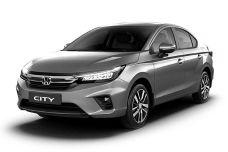Car hood: (29, 50, 140, 76)
Fender - -F-L-: (120, 50, 158, 109)
Fender - -R-L-: (200, 48, 213, 80)
Fender - -R-R-: (43, 56, 78, 79)
Front bumper: (13, 80, 133, 121)
Headlight - -L-: (73, 63, 129, 87)
Headlight - -R-: (15, 58, 33, 80)
Passenger-s door - -F-L-: (153, 23, 186, 99)
Passenger-s door - -R-L-: (180, 26, 207, 91)
Rear bumper: (209, 69, 217, 88)
Rear light - -L-: (206, 46, 216, 59)
Side bumper - -L-: (150, 83, 204, 106)
Side mirror - -R-: (63, 40, 75, 50)
